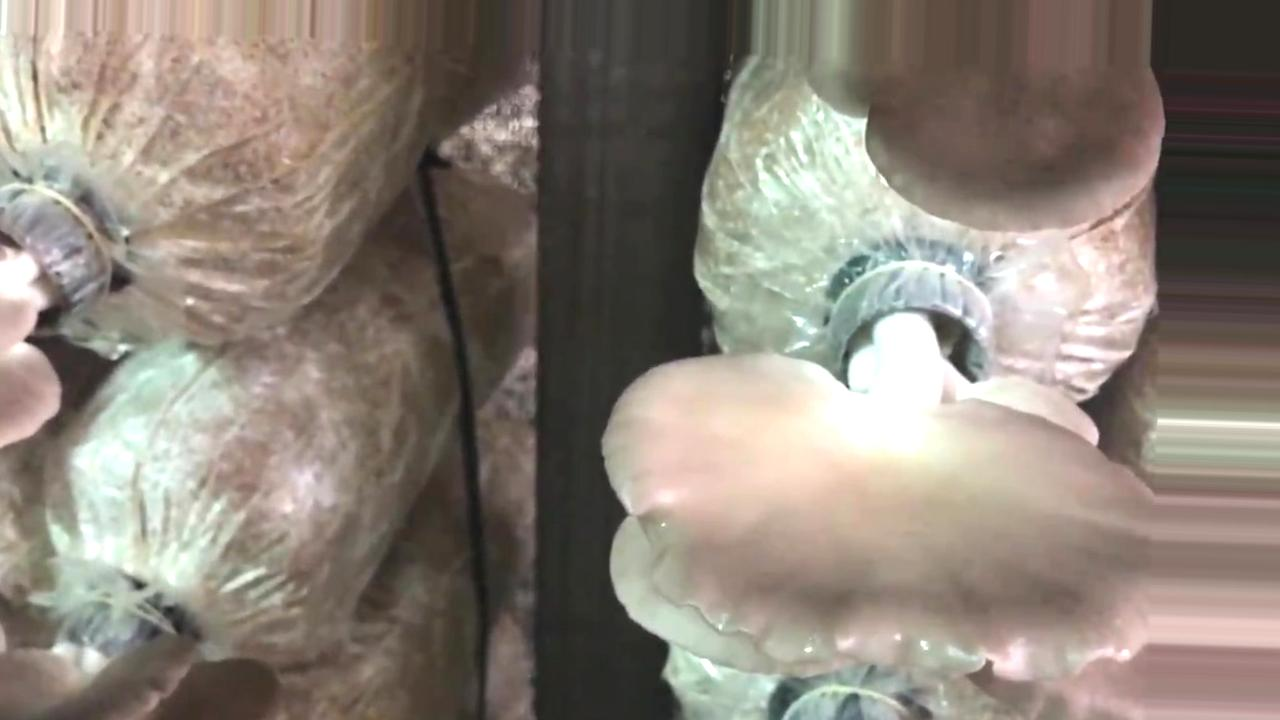nam: (596, 248, 1159, 677), (795, 3, 1167, 245), (1, 180, 106, 450)
